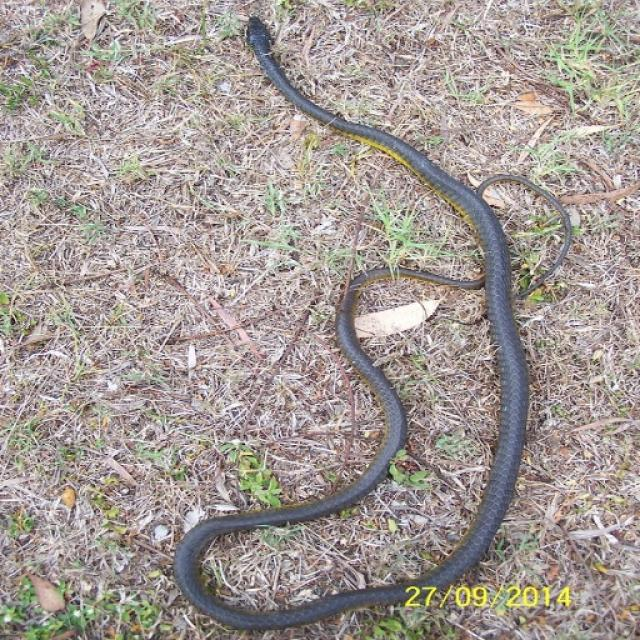snake: (162, 4, 540, 640)
